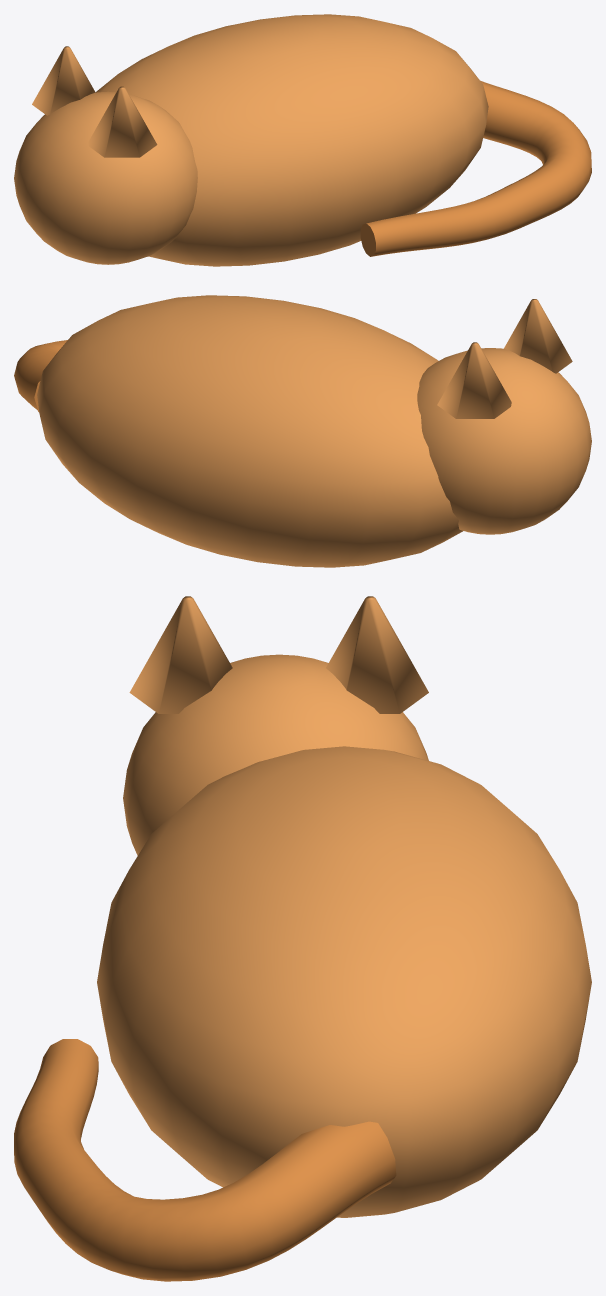
The model's file is cat.glb.
The picture shows the model from 3 angles, top to bottom: view 1: azimuth 30°, elevation 25°; view 2: azimuth 150°, elevation 25°; view 3: azimuth 270°, elevation 25°; orthographic projection. The views are drawn at different scales.
Parts seen in each view (by area): view 1: cat_body, cat_head, cat_tail, cat_ear, cat_ear.001; view 2: cat_body, cat_head, cat_ear.001, cat_ear, cat_tail; view 3: cat_body, cat_tail, cat_head, cat_ear, cat_ear.001.
Part boxes in pixels (bbox=[...]): cat_body: bbox=[95, 14, 488, 266]; cat_head: bbox=[14, 91, 197, 264]; cat_tail: bbox=[360, 80, 591, 256]; cat_ear: bbox=[88, 86, 157, 157]; cat_ear.001: bbox=[32, 46, 95, 115]; cat_body: bbox=[37, 295, 462, 567]; cat_head: bbox=[417, 348, 591, 534]; cat_ear.001: bbox=[437, 342, 511, 418]; cat_ear: bbox=[504, 299, 572, 373]; cat_tail: bbox=[14, 340, 67, 412]; cat_body: bbox=[97, 746, 591, 1217]; cat_tail: bbox=[14, 1039, 396, 1281]; cat_head: bbox=[123, 654, 428, 855]; cat_ear: bbox=[129, 596, 232, 713]; cat_ear.001: bbox=[326, 596, 428, 713].
Bounding box in the file's own units: 0.7836 × 0.334 × 0.4437.
